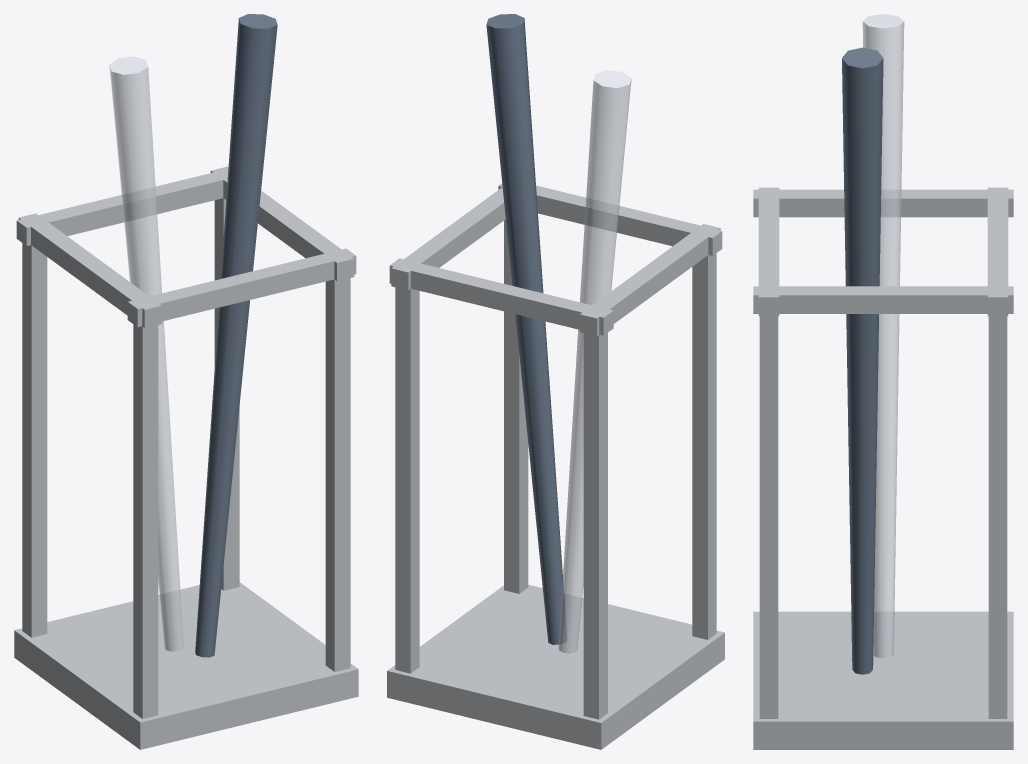
The model's file is umbrella_stand.glb.
3 views of the same model, side by side, from view 1: azimuth 30°, elevation 25°; view 2: azimuth 150°, elevation 25°; view 3: azimuth 270°, elevation 25° (orthographic). The views are drawn at different scales.
Visible parts, largest first — view 1: umbrella_stand; view 2: umbrella_stand; view 3: umbrella_stand.
Part boxes in pixels (x1,y1,x2,y2): umbrella_stand: (14, 14, 358, 749); umbrella_stand: (387, 14, 724, 749); umbrella_stand: (753, 14, 1013, 749).
Bounding box in the file's own units: 0.25 × 0.7104 × 0.25.
